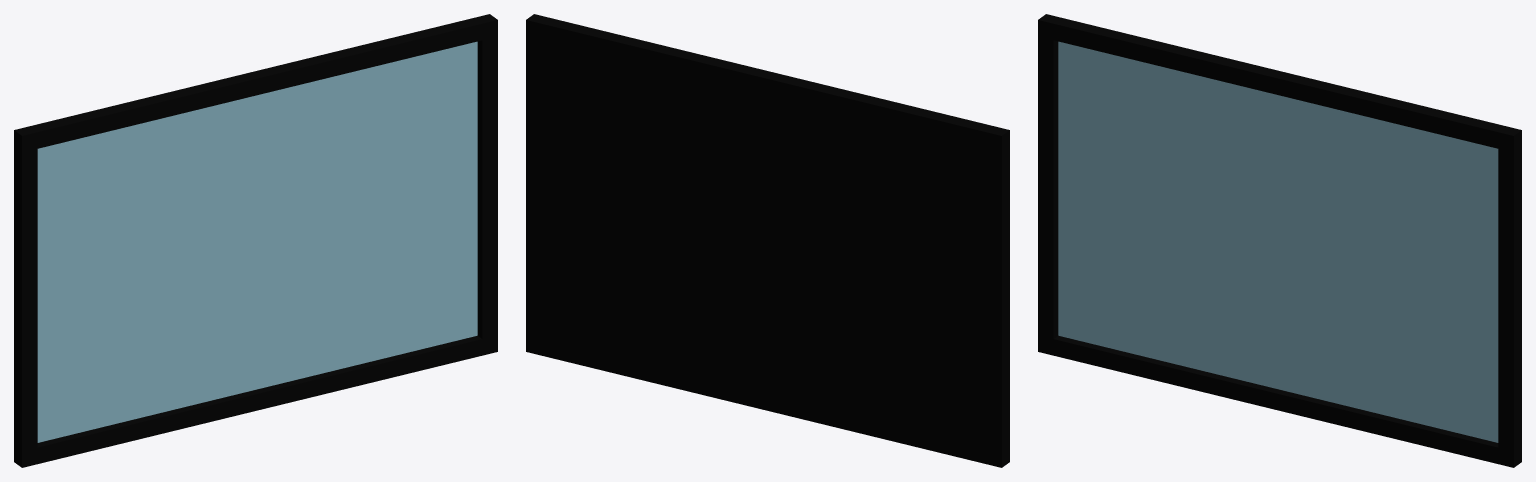
File: MiroirCadre.fbx
The picture shows the model from 3 angles, left to right: view 1: azimuth 30°, elevation 25°; view 2: azimuth 150°, elevation 25°; view 3: azimuth 330°, elevation 25°; orthographic projection.
Parts seen in each view (by area): view 1: Cadre; view 2: Cadre; view 3: Cadre.
Part boxes in pixels (x1=…): Cadre: x1=14, y1=14, x2=497, y2=467; Cadre: x1=526, y1=14, x2=1009, y2=467; Cadre: x1=1038, y1=14, x2=1521, y2=467.
Bounding box in the file's own units: 300 × 200 × 8.84.
